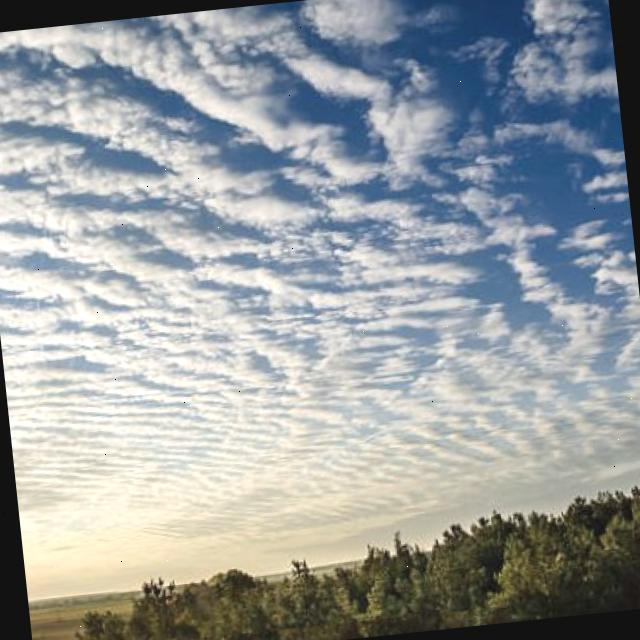Cc: (1, 1, 640, 507)
